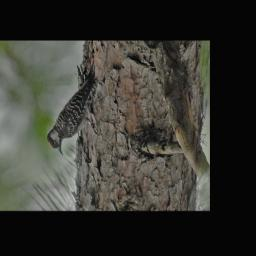Woodpecker: (47, 69, 98, 159)
